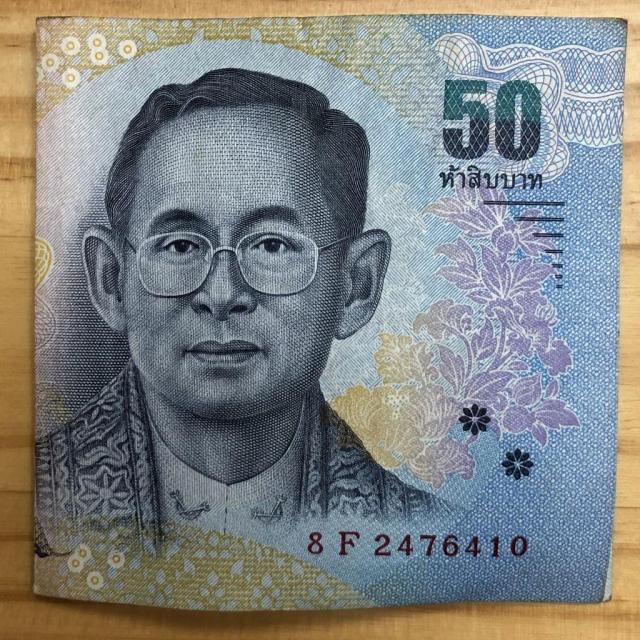THAI50: (32, 13, 628, 610)
